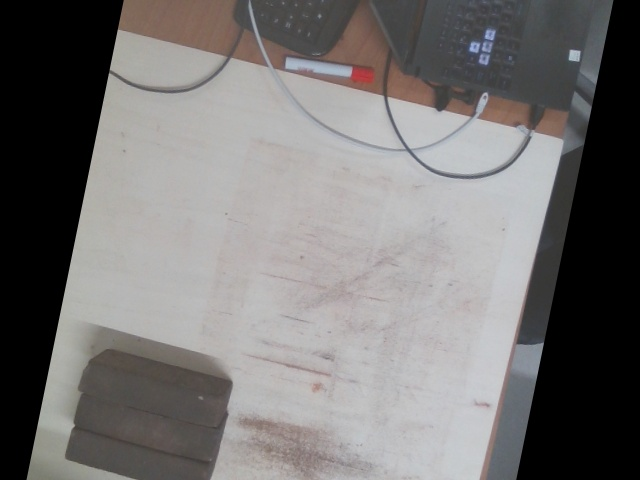brick-side: (77, 362, 220, 428), (73, 396, 216, 462), (62, 429, 205, 479)
